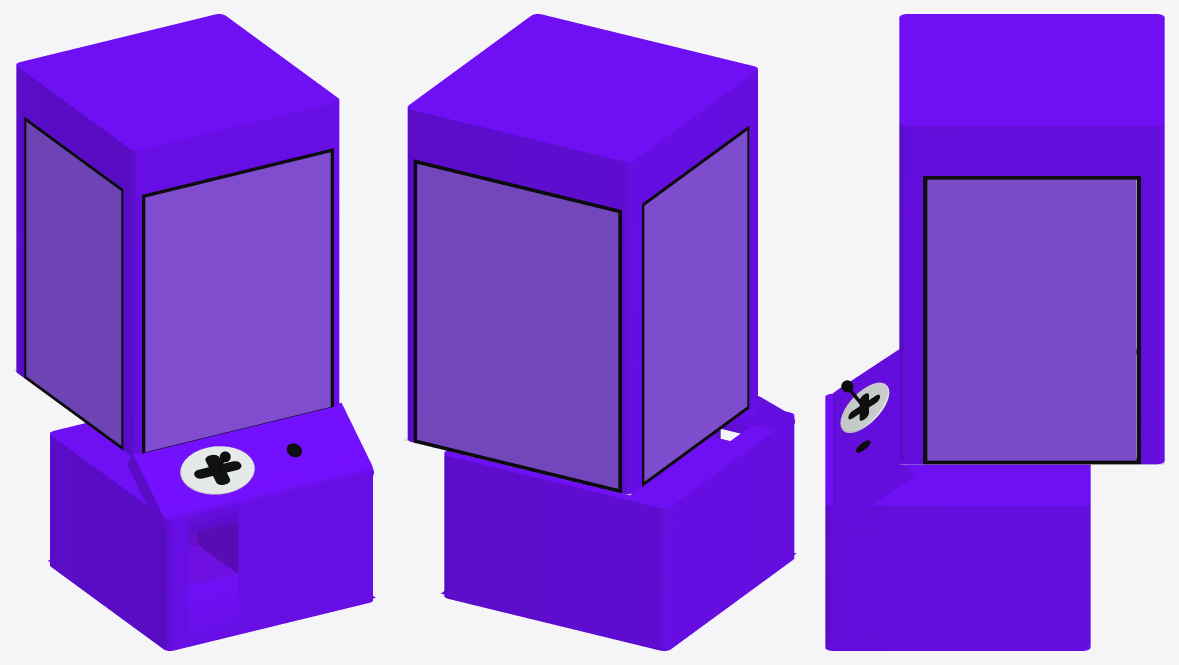
The model's file is claw-machine-transformed.glb.
3 renders of one model, left to right at view 1: azimuth 30°, elevation 25°; view 2: azimuth 150°, elevation 25°; view 3: azimuth 270°, elevation 25°, orthographic. The views are drawn at different scales.
Parts seen in each view (by area): view 1: SM_Body_InnerGlass, SM_Mirror, SM_Hand_2, SM_Joystick; view 2: SM_Body_InnerGlass, SM_Mirror; view 3: SM_Body_InnerGlass, SM_Mirror, SM_Joystick.
Boxes of the visible parts, bbox=[...] form: SM_Body_InnerGlass: bbox=[16, 14, 375, 650]; SM_Mirror: bbox=[24, 117, 333, 494]; SM_Hand_2: bbox=[188, 522, 238, 585]; SM_Joystick: bbox=[194, 443, 301, 484]; SM_Body_InnerGlass: bbox=[407, 14, 795, 650]; SM_Mirror: bbox=[413, 125, 749, 493]; SM_Body_InnerGlass: bbox=[825, 14, 1164, 650]; SM_Mirror: bbox=[840, 176, 1140, 464]; SM_Joystick: bbox=[841, 380, 879, 452].
Size of the model in its own units: 10.03 by 21.83 by 12.8.
5 materials, 5 textured.
